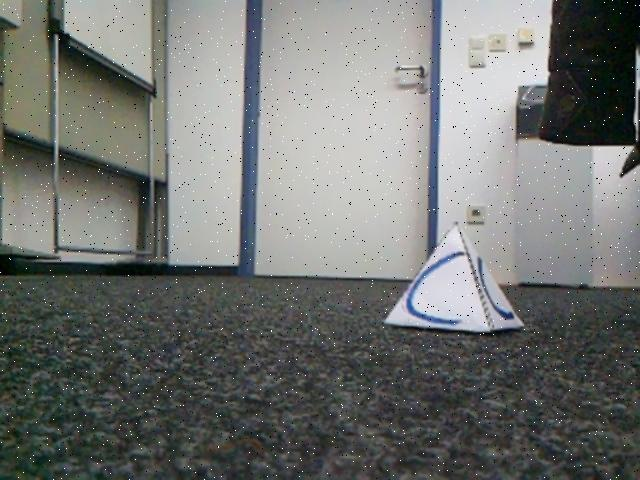C: (384, 220, 523, 332)
